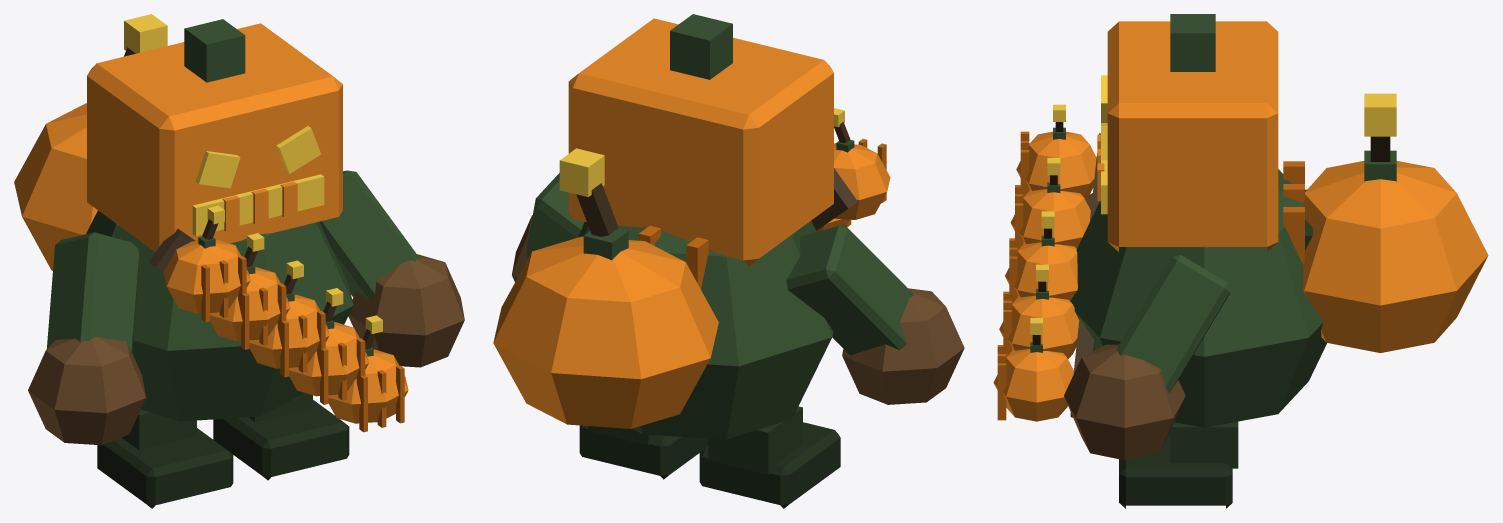
The model's file is r4_mini_pumpkin_bomber.glb.
3 views of the same model, side by side, from view 1: azimuth 30°, elevation 25°; view 2: azimuth 150°, elevation 25°; view 3: azimuth 270°, elevation 25° (orthographic). The views are drawn at different scales.
Parts seen in each view (by area): view 1: r4_mini_pumpkin_bomber_mesh; view 2: r4_mini_pumpkin_bomber_mesh; view 3: r4_mini_pumpkin_bomber_mesh.
Boxes of the visible parts, x1,y1,x2,y2 form: r4_mini_pumpkin_bomber_mesh: (14, 14, 464, 508); r4_mini_pumpkin_bomber_mesh: (493, 14, 964, 508); r4_mini_pumpkin_bomber_mesh: (993, 14, 1488, 508).
Bounding box in the file's own units: 3.68 × 3.6 × 3.69.
1 material, 1 textured.
